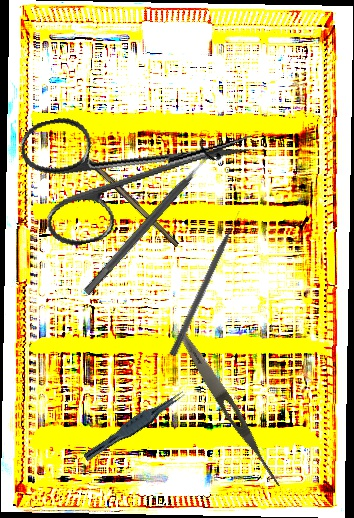Dressing Forceps: (175, 330, 287, 490)
Fixation Ring: (74, 137, 224, 303)
Iris Scissors: (15, 76, 268, 254)
Pusher: (168, 209, 245, 358)
Scalpel Handle: (82, 153, 182, 248)
Tissue Forceps: (82, 384, 188, 468)
